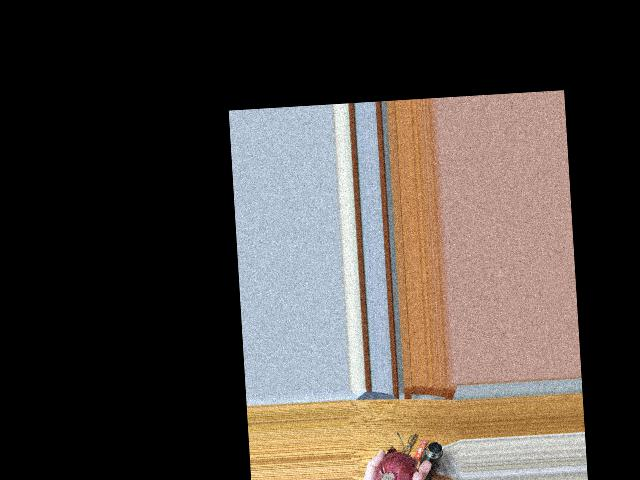onion: (372, 455, 417, 480)
